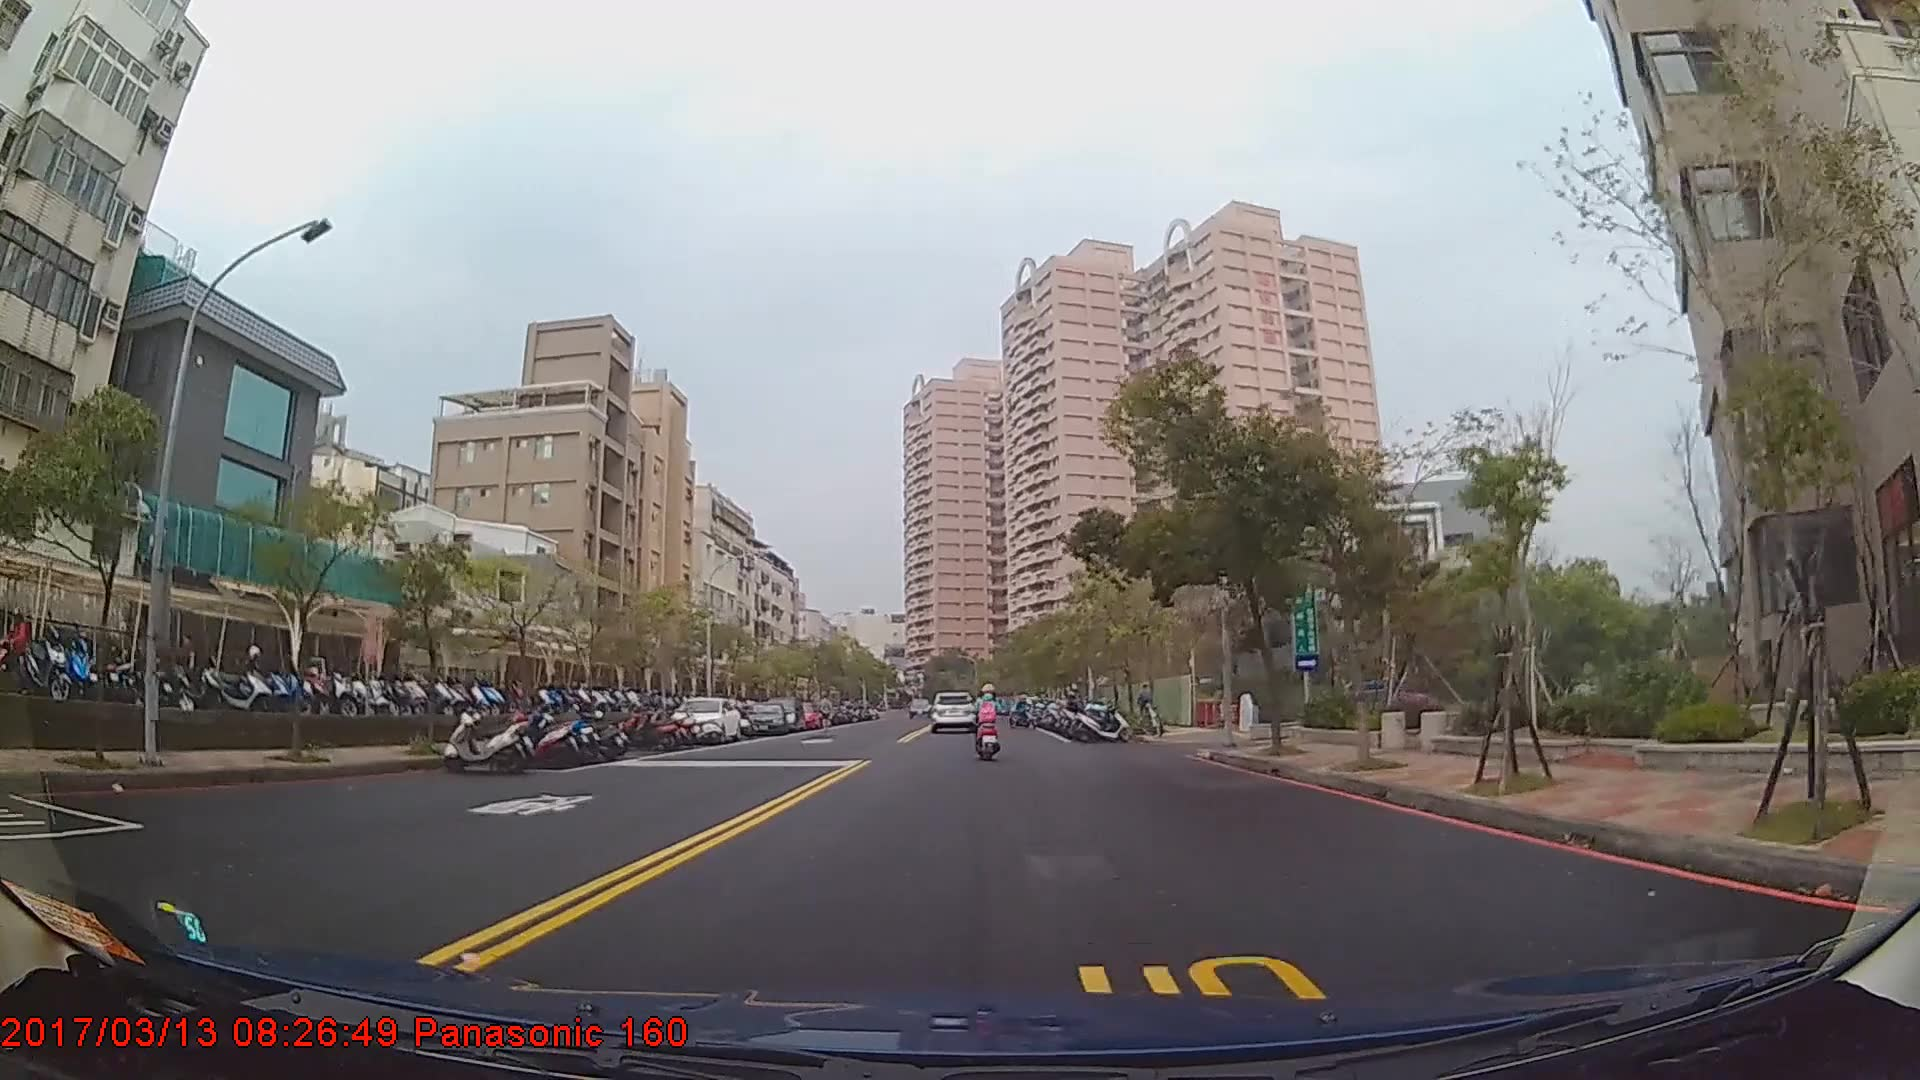pedestrian: (1137, 683, 1158, 731)
rider: (972, 681, 1003, 758)
vehicle: (668, 696, 741, 745), (927, 688, 977, 732), (739, 700, 790, 736)
